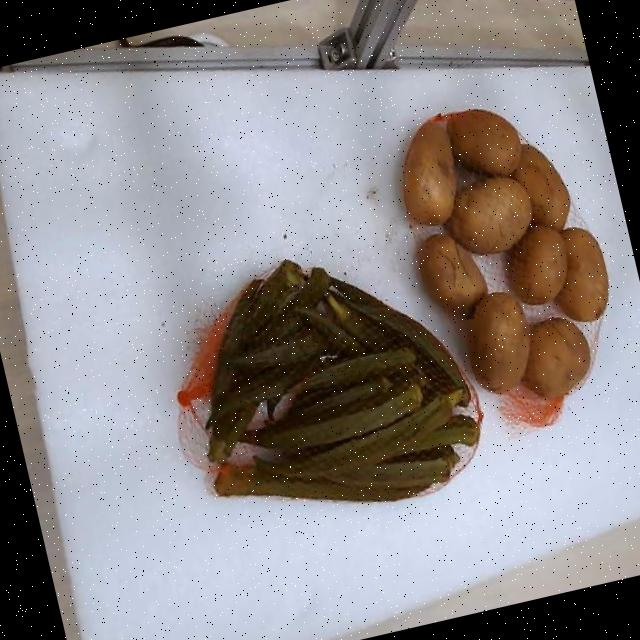potato: (203, 261, 479, 500), (445, 175, 531, 254), (469, 291, 529, 393), (416, 234, 486, 316), (402, 121, 456, 224), (521, 317, 589, 398), (511, 144, 569, 231), (446, 108, 520, 175), (555, 228, 607, 320), (507, 225, 566, 304)
